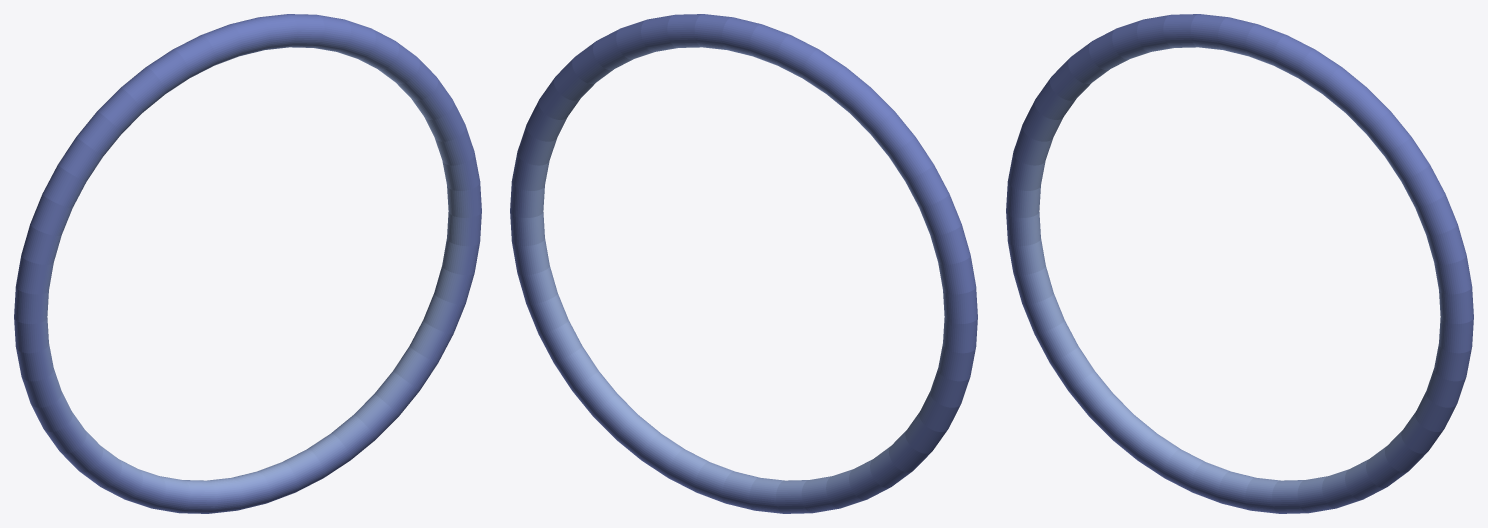
3 renders of one model, left to right at view 1: azimuth 30°, elevation 25°; view 2: azimuth 150°, elevation 25°; view 3: azimuth 330°, elevation 25°, orthographic.
Visible parts, largest first — view 1: world; view 2: world; view 3: world.
Boxes of the visible parts, x1,y1,x2,y2 form: world: (14,14,481,513); world: (510,14,977,513); world: (1006,14,1473,513).
Bounding box in the file's own units: 32 × 31.94 × 2.
